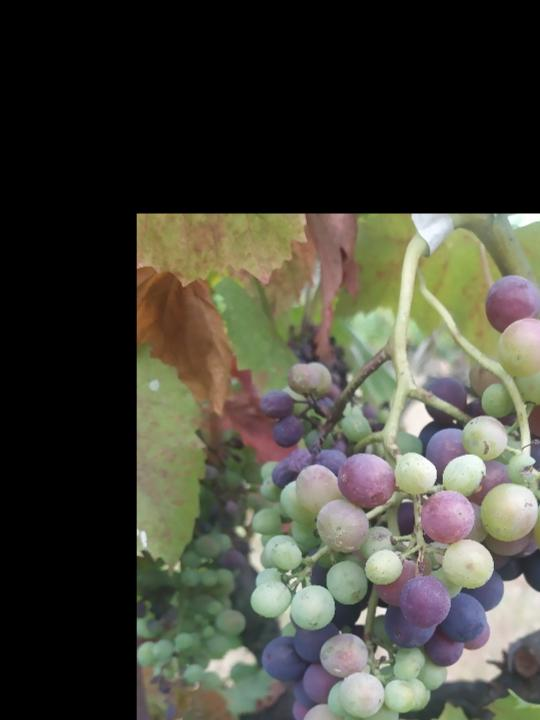grape: (251, 258, 540, 720)
